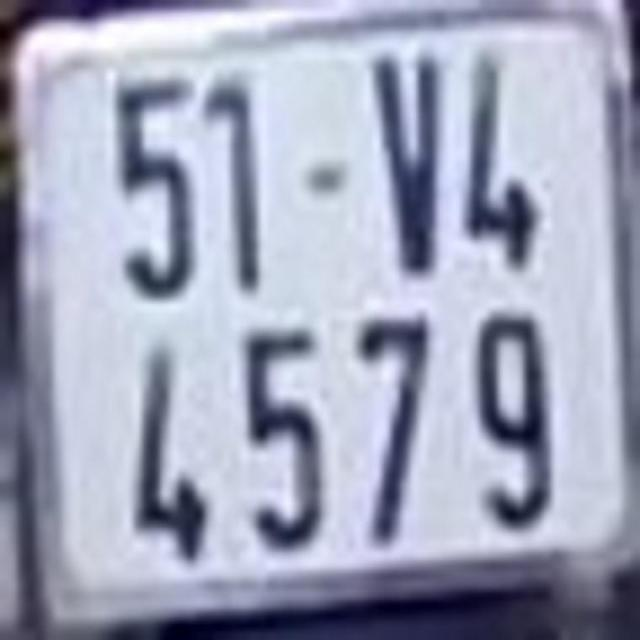1: (197, 74, 264, 296)
4: (459, 50, 546, 277), (133, 345, 211, 570)
5: (110, 80, 206, 297), (240, 326, 327, 550)
7: (356, 312, 432, 541)
9: (475, 314, 552, 522)
V: (363, 52, 441, 278)
